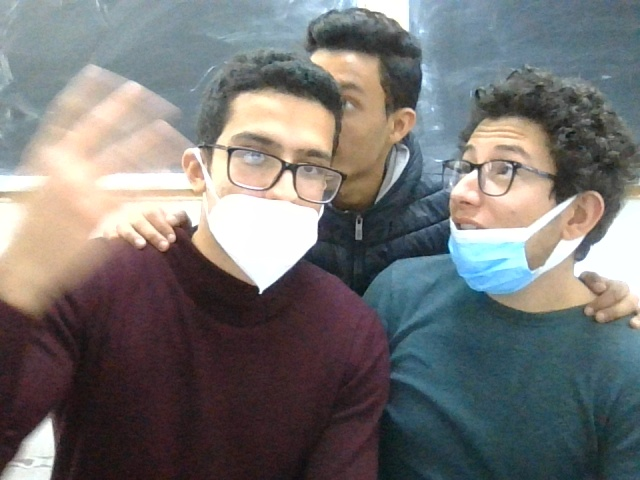mask_weared_incorrect: (448, 65, 626, 296), (188, 47, 336, 287)
